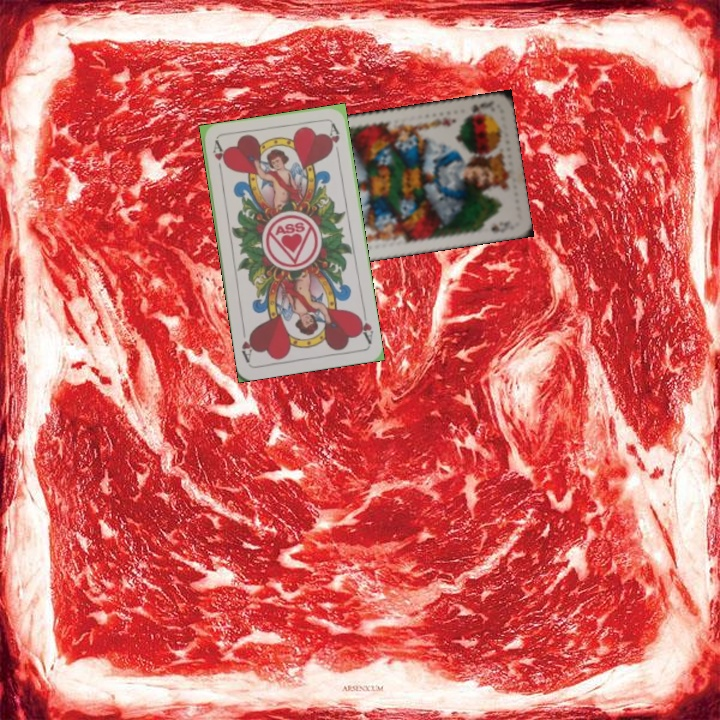HA: (353, 306, 376, 346), (208, 137, 228, 178)
SK: (460, 99, 486, 120)
